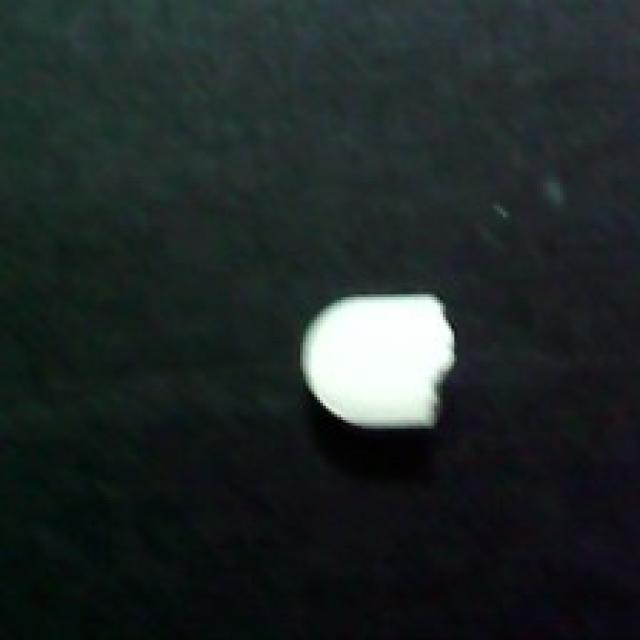defected: (294, 286, 460, 434)
